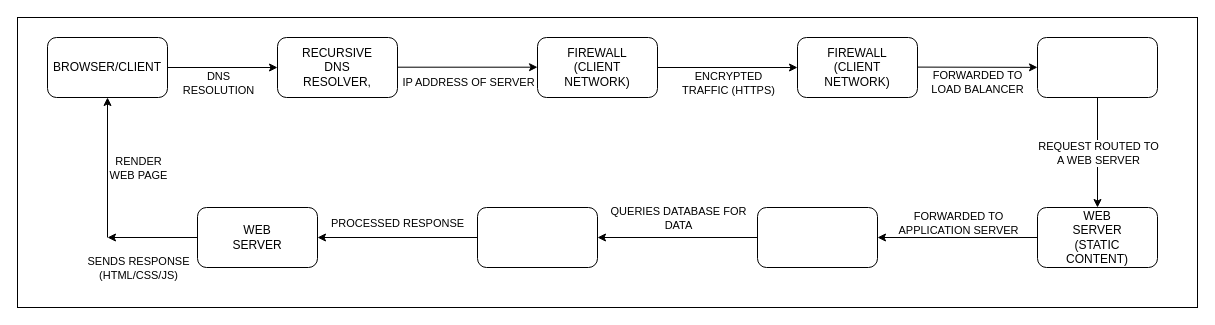
Image size: 1215x325. Some labels were removed from this diagram. Here are the shapes that lost their labels. From the top down, the centre of each, then its label:
At pixel 1097 67: "LOAD BALANCER".
At pixel 537 237: "DATABASE".
At pixel 817 237: "APPLICATION SERVER (DYNAMIC CONTENT)".
